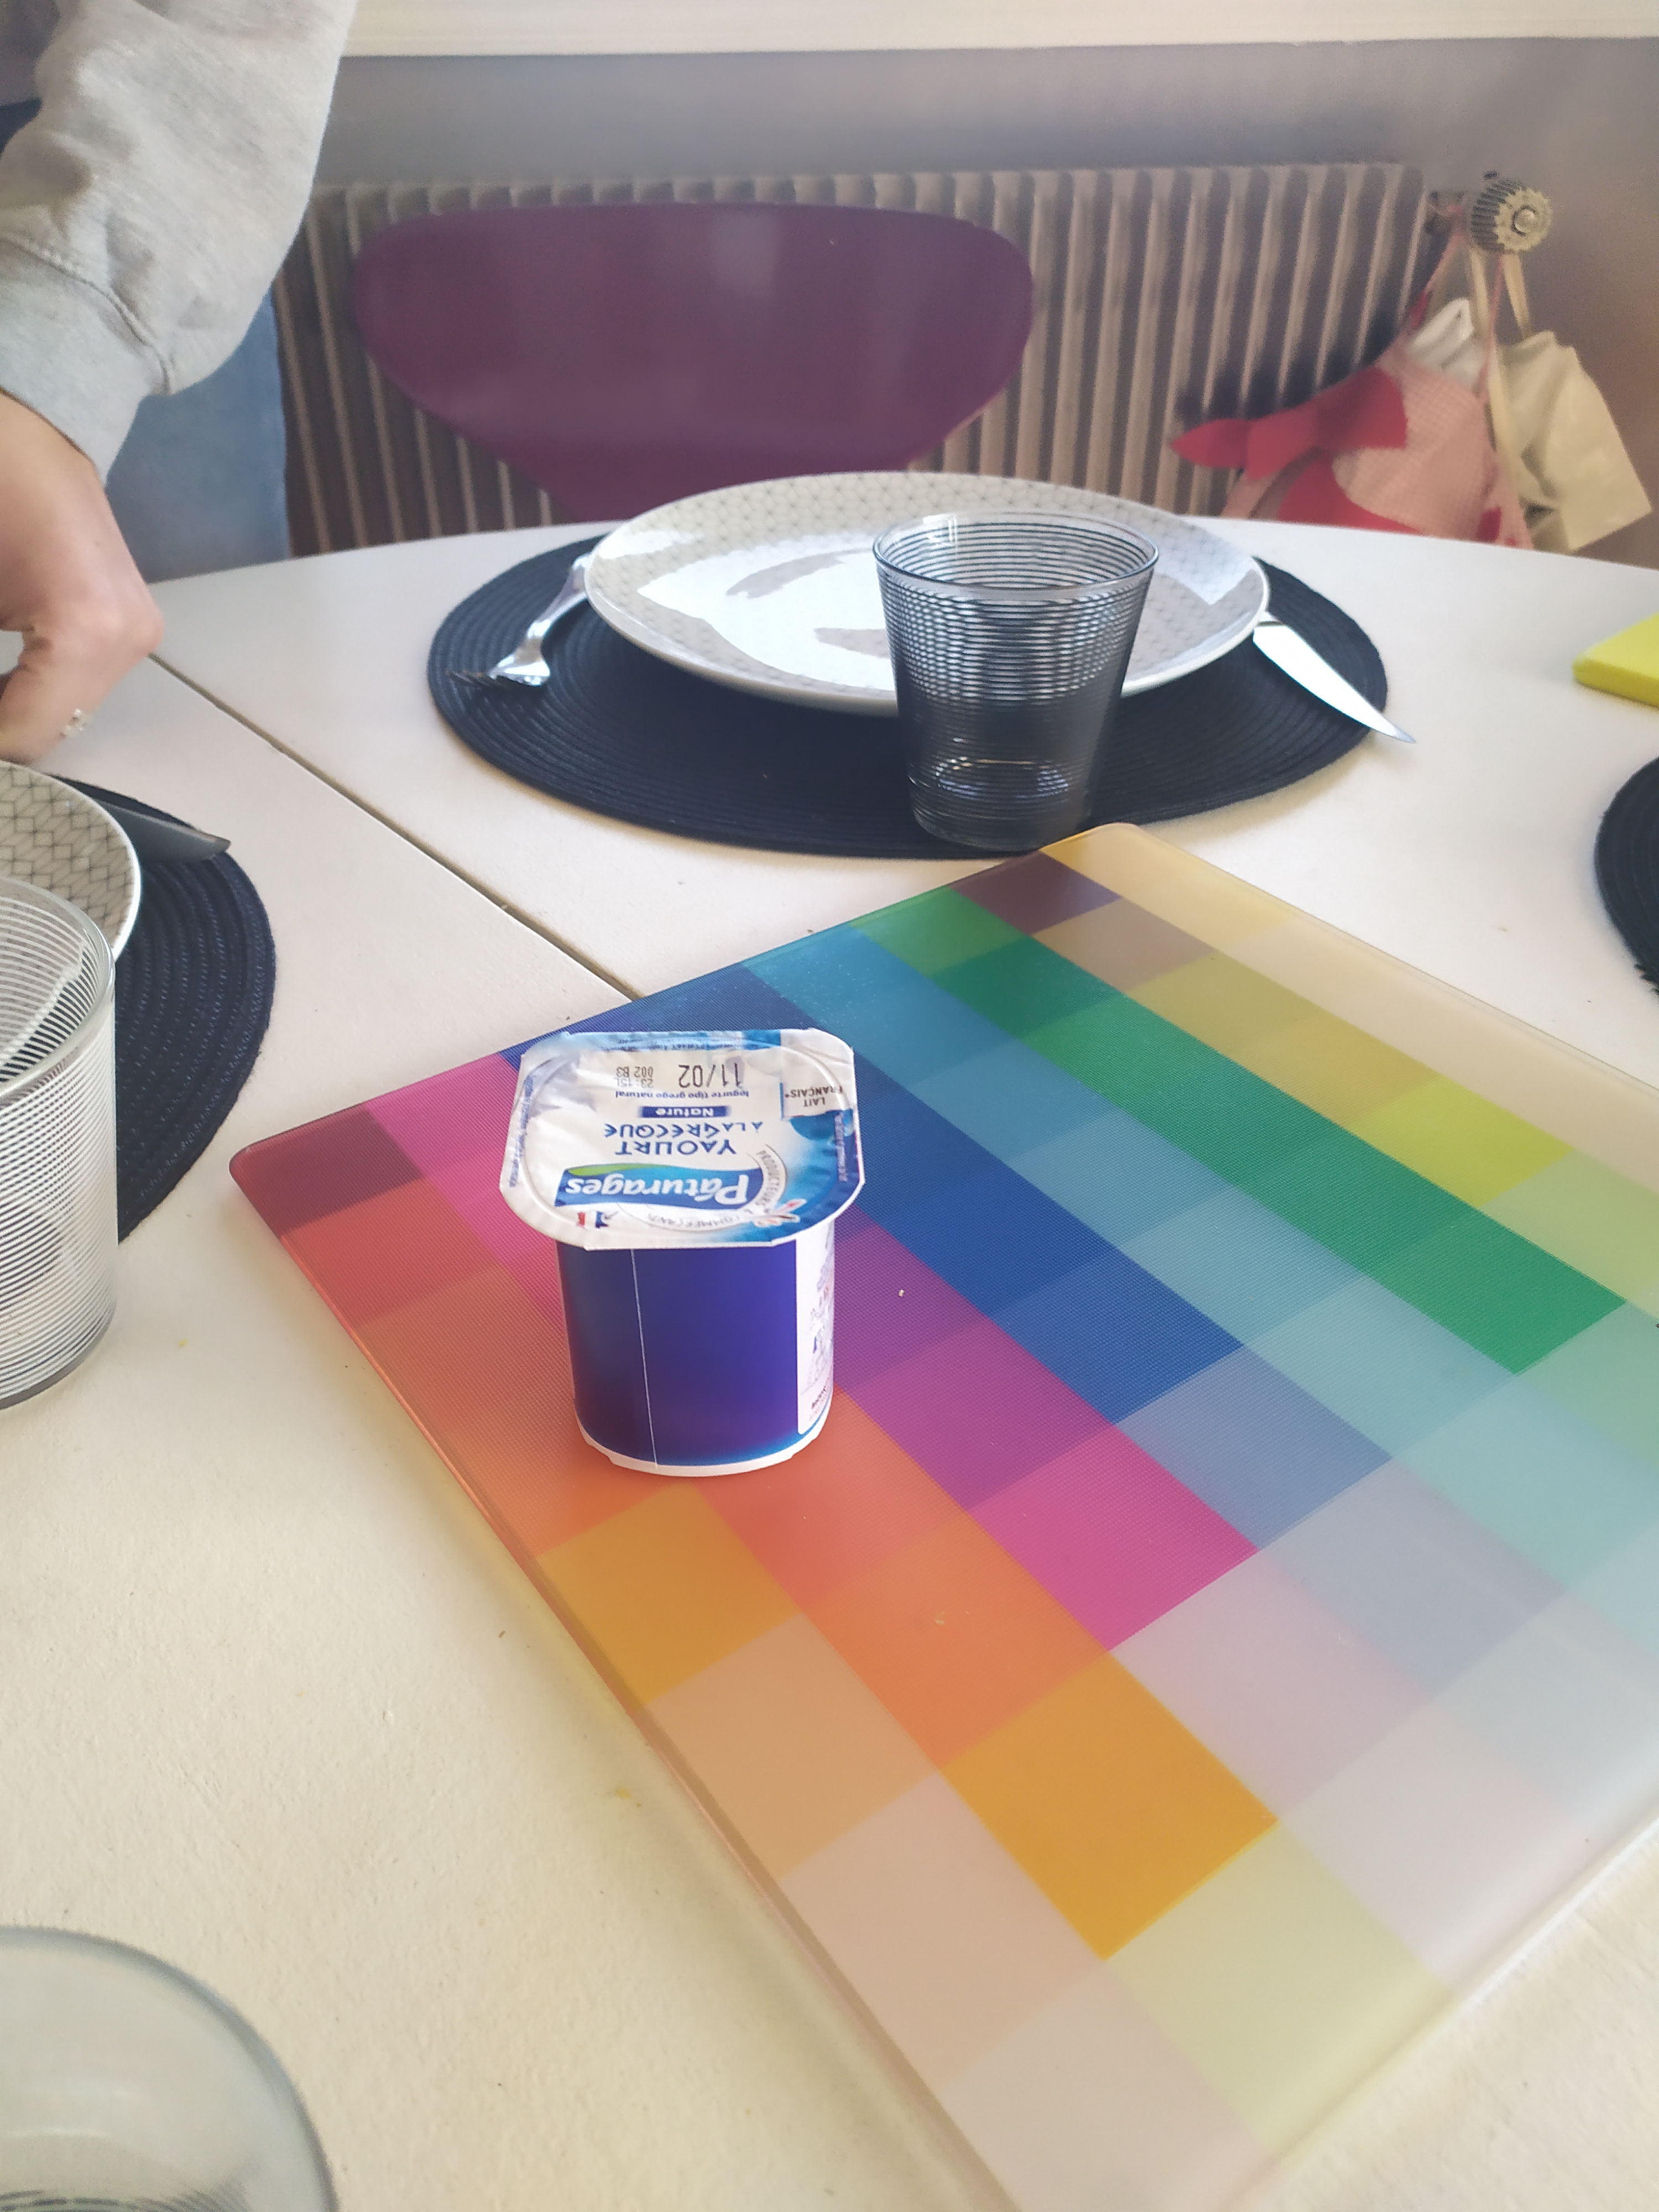yoghurt: (504, 1029, 868, 1479)
